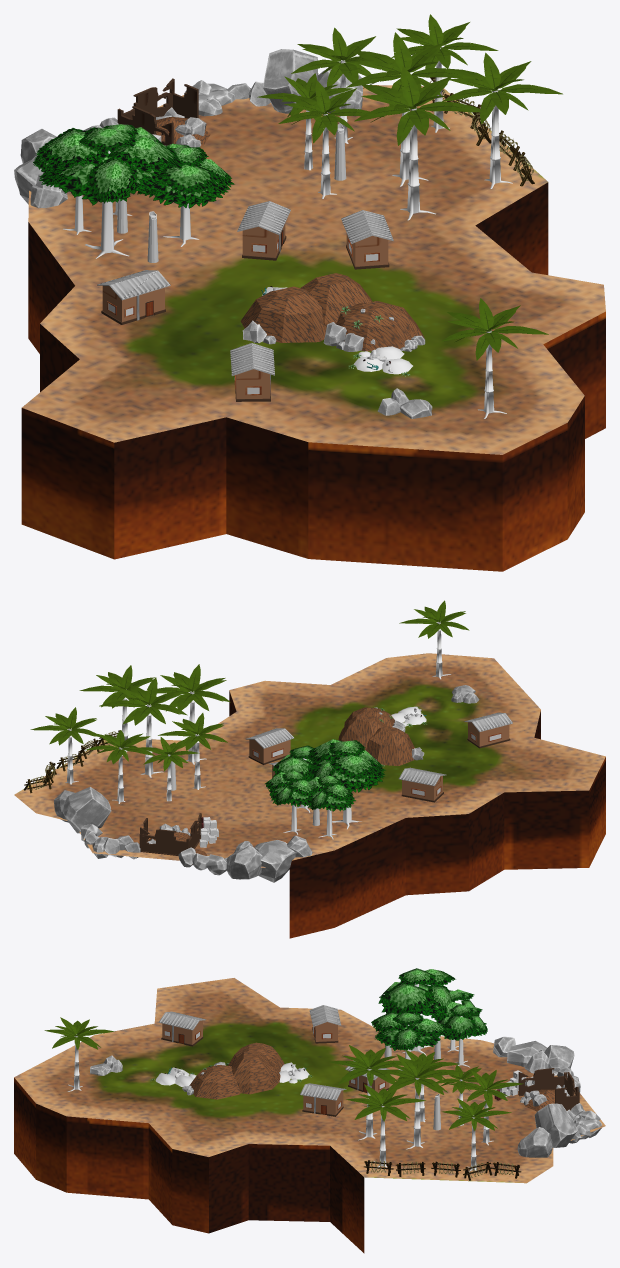
File: Lower.fbx
3 renders of one model, top to bottom at view 1: azimuth 30°, elevation 25°; view 2: azimuth 150°, elevation 25°; view 3: azimuth 270°, elevation 25°, orthographic. The views are drawn at different scales.
Visible parts, largest first — view 1: Lower.001, tree.007, 2d bush.1511, tree.002, Plane.535, 2d bush.1513, 2d bush.1492, Cube.1476, 2d bush.1494, Plane.534, 2d bush.1493, Cube.1475 (+8 smaller); view 2: Lower.001, tree.007, 2d bush.1492, 2d bush.1511, Cube.1980, tree.006, Plane.535, tree.038, 2d bush.1494, 2d bush.1512, 2d bush.1493, Cube.1477 (+10 smaller); view 3: Lower.001, tree.007, tree.002, 2d bush.1492, 2d bush.1511, Plane.583, 2d bush.1513, tree.006, Plane.534, Cube.1980, Cube.1477, Cube.1474 (+13 smaller).
Boxes of the visible parts, <box> form: Lower.001: <box>21,85,605,571</box>; tree.007: <box>35,127,182,258</box>; 2d bush.1511: <box>354,66,488,220</box>; tree.002: <box>137,143,234,246</box>; Plane.535: <box>240,286,325,342</box>; 2d bush.1513: <box>442,52,562,188</box>; 2d bush.1492: <box>346,32,480,186</box>; Cube.1476: <box>97,270,170,324</box>; 2d bush.1494: <box>441,298,548,418</box>; Plane.534: <box>336,301,424,351</box>; 2d bush.1493: <box>278,80,384,198</box>; Cube.1475: <box>237,201,290,260</box>; Lower.001: <box>14,653,605,938</box>; tree.007: <box>307,739,385,829</box>; 2d bush.1492: <box>99,677,187,777</box>; 2d bush.1511: <box>156,664,230,764</box>; Cube.1980: <box>62,786,111,833</box>; tree.006: <box>265,770,317,834</box>; Plane.535: <box>366,725,414,765</box>; tree.038: <box>305,775,355,839</box>; 2d bush.1494: <box>399,600,469,679</box>; 2d bush.1512: <box>30,707,100,784</box>; 2d bush.1493: <box>158,713,227,789</box>; Cube.1477: <box>464,712,512,748</box>; Lower.001: <box>14,978,605,1253</box>; tree.007: <box>378,968,458,1056</box>; tree.002: <box>371,1012,448,1070</box>; 2d bush.1492: <box>384,1054,464,1149</box>; 2d bush.1511: <box>329,1045,413,1140</box>; Plane.583: <box>231,1050,280,1094</box>; 2d bush.1513: <box>346,1084,425,1168</box>; tree.006: <box>440,1004,487,1067</box>; Plane.534: <box>189,1065,240,1099</box>; Cube.1980: <box>534,1103,577,1147</box>; Cube.1477: <box>158,1011,206,1046</box>; Cube.1474: <box>300,1083,346,1116</box>.
Size of the model in its own units: 1458 by 529 by 1775.
